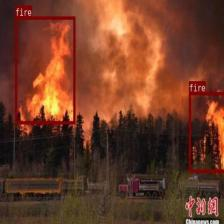fire: (15, 16, 75, 123), (188, 91, 224, 172)
